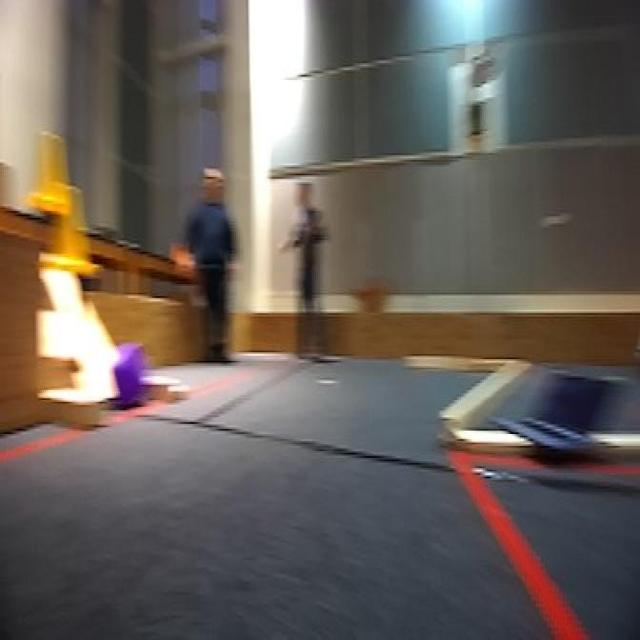frc_cone: (52, 180, 94, 276), (34, 131, 72, 215)
frc_cube: (114, 348, 148, 403)
